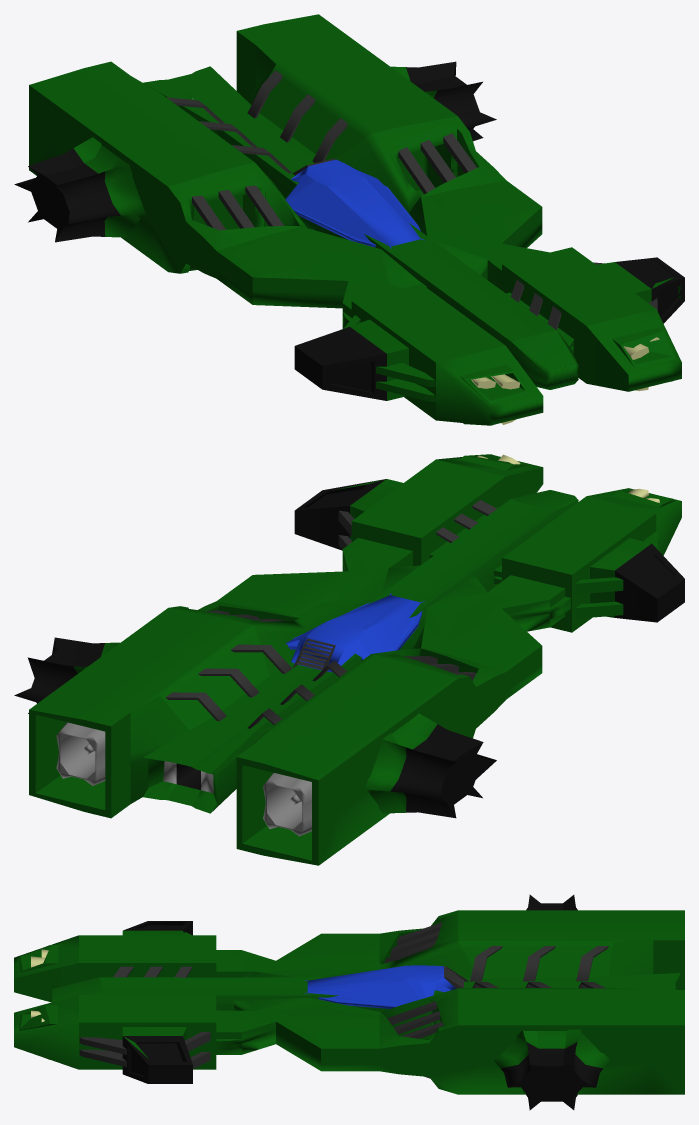
Rendered from Misanthrop.mtl.obj.
3 renders of one model, top to bottom at view 1: azimuth 30°, elevation 25°; view 2: azimuth 150°, elevation 25°; view 3: azimuth 270°, elevation 25°, orthographic. The views are drawn at different scales.
Visible parts, largest first — view 1: Cube; view 2: Cube; view 3: Cube.
Part boxes in pixels (left/top/right/bottom): Cube: left=14, top=14, right=684, bottom=425; Cube: left=14, top=454, right=684, bottom=865; Cube: left=14, top=894, right=684, bottom=1110.
Bounding box in the file's own units: 5.86 × 1.2 × 9.76.
